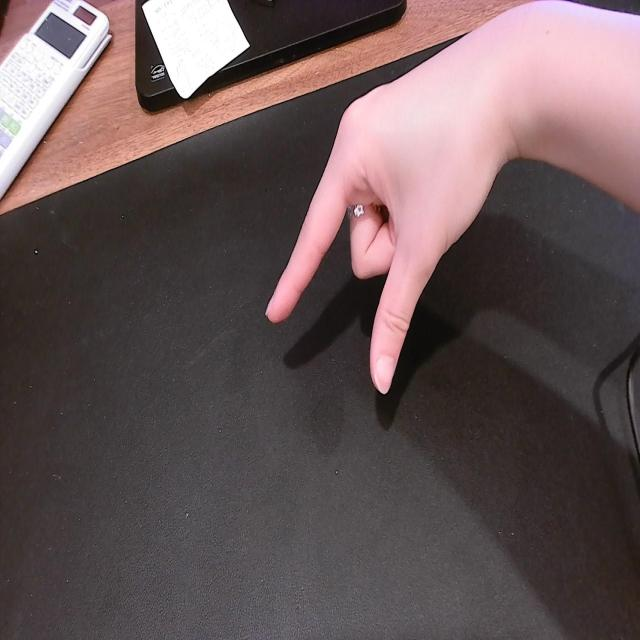Q: (260, 16, 509, 409)
